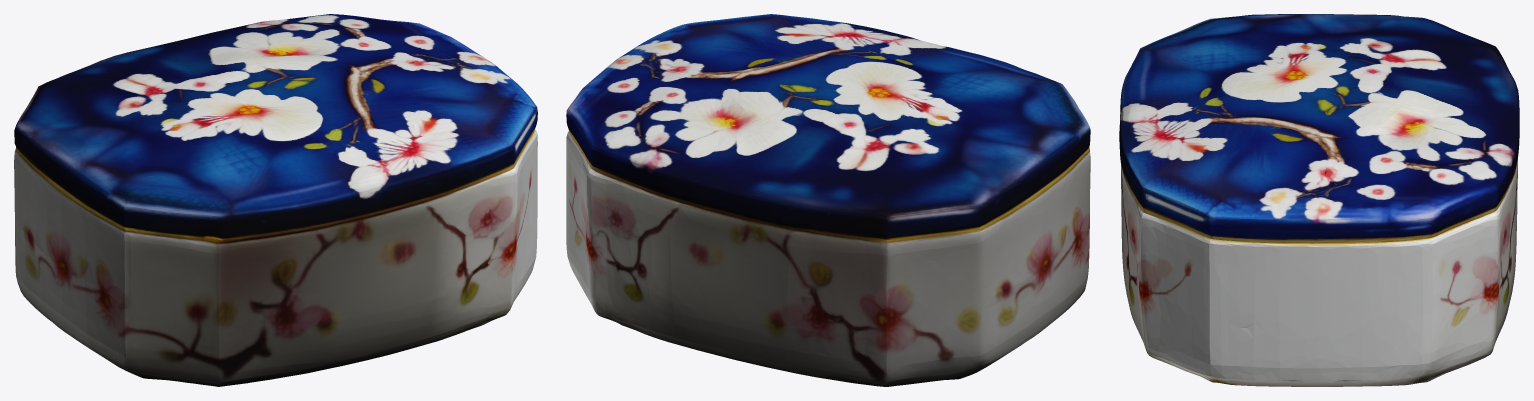
The model's file is porcelain-jewelry-box-japanese.jpeg.glb.
3 views of the same model, side by side, from view 1: azimuth 30°, elevation 25°; view 2: azimuth 150°, elevation 25°; view 3: azimuth 270°, elevation 25° (orthographic).
Visible parts, largest first — view 1: world; view 2: world; view 3: world.
Boxes of the visible parts, x1=… form: world: x1=14, y1=14, x2=537, y2=386; world: x1=566, y1=14, x2=1090, y2=386; world: x1=1119, y1=14, x2=1519, y2=386.
Size of the model in its own units: 0.9892 by 0.4844 by 0.8073.
Materials: 1 (1 with a texture image).
